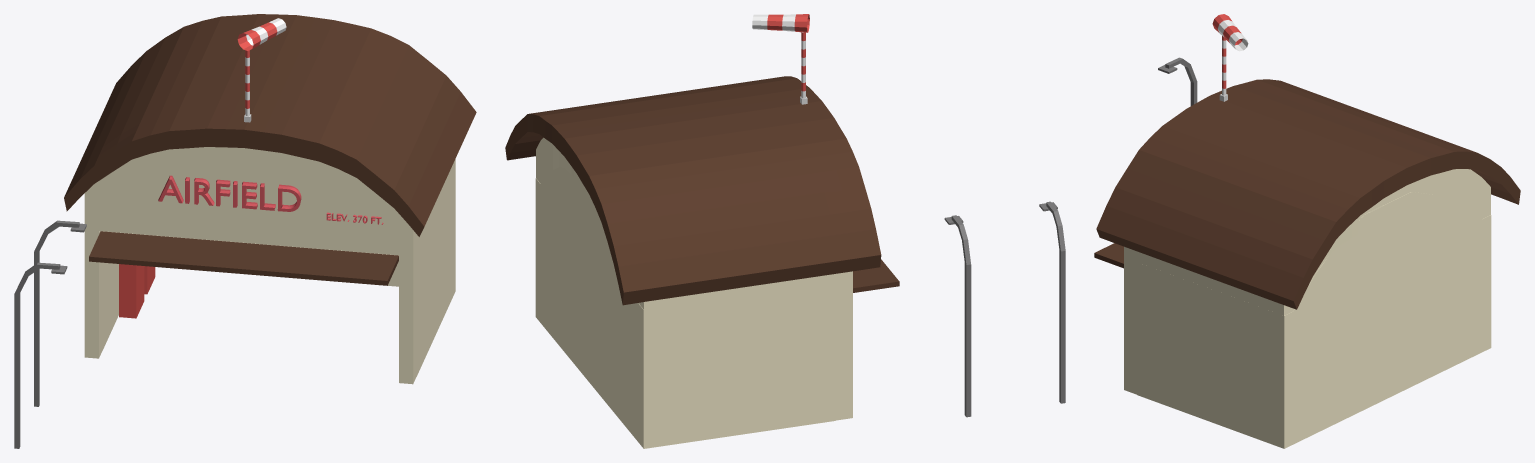
Rendered from hanger.glb.
3 renders of one model, left to right at view 1: azimuth 30°, elevation 25°; view 2: azimuth 150°, elevation 25°; view 3: azimuth 270°, elevation 25°, orthographic. The views are drawn at different scales.
Visible parts, largest first — view 1: Body, Door, Airfield, Cube.004, Storage1, Cube.001, WindFunnel; view 2: Body, Cube.001, Cube.004, WindFunnel, Door; view 3: Body, WindFunnel, Door, Cube.004.
Part boxes in pixels (left/top/right/bottom): Body: left=64, top=14, right=476, bottom=384; Door: left=89, top=231, right=398, bottom=285; Airfield: left=158, top=175, right=301, bottom=211; Cube.004: left=14, top=262, right=60, bottom=448; Storage1: left=119, top=264, right=144, bottom=318; Cube.001: left=34, top=220, right=79, bottom=406; WindFunnel: left=237, top=18, right=286, bottom=50; Body: left=505, top=76, right=881, bottom=448; Cube.001: left=951, top=215, right=971, bottom=417; Cube.004: left=1046, top=201, right=1065, bottom=403; WindFunnel: left=752, top=14, right=809, bottom=32; Door: left=853, top=259, right=899, bottom=292; Body: left=1096, top=79, right=1520, bottom=448; WindFunnel: left=1212, top=14, right=1248, bottom=51; Door: left=1094, top=243, right=1123, bottom=268; Cube.004: left=1165, top=57, right=1197, bottom=105.
Bounding box in the file's own units: 34.15 × 21.78 × 25.91.
